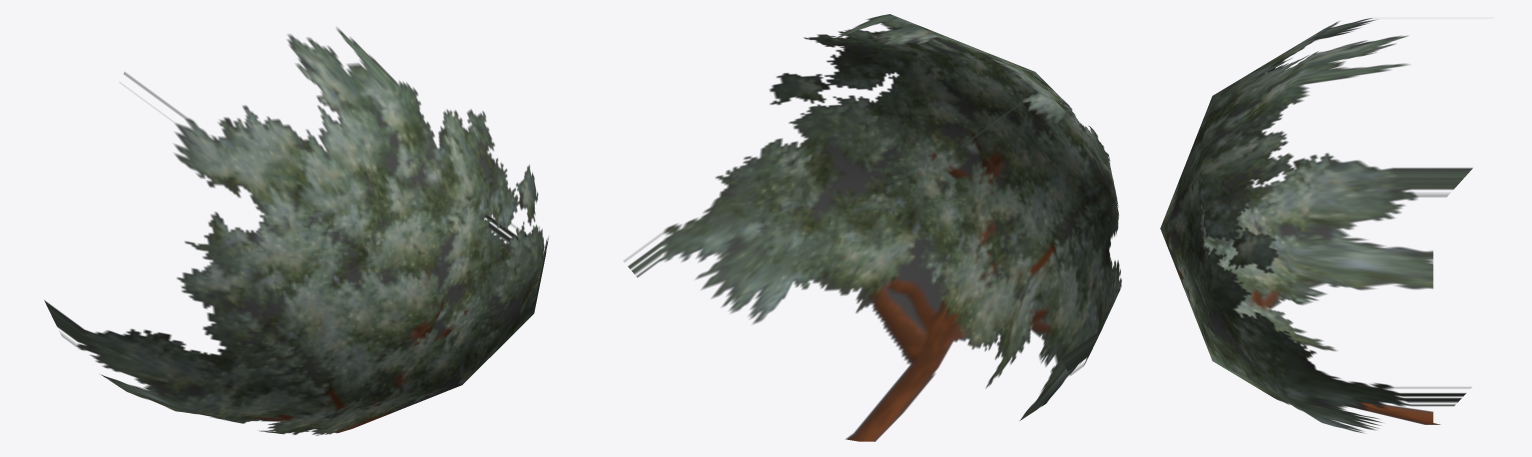
File: treeLP8.glb
The picture shows the model from 3 angles, left to right: view 1: azimuth 30°, elevation 25°; view 2: azimuth 150°, elevation 25°; view 3: azimuth 270°, elevation 25°; orthographic projection. The views are drawn at different scales.
Visible parts, largest first — view 1: Icosphere.001; view 2: Icosphere.001; view 3: Icosphere.001.
Boxes of the visible parts, box(x1,y1,x2,y2) form: Icosphere.001: box(44, 27, 549, 435); Icosphere.001: box(624, 14, 1121, 441); Icosphere.001: box(1160, 18, 1472, 433).
Size of the model in its own units: 13.76 by 11.37 by 9.47.
Materials: 1 (1 with a texture image).
